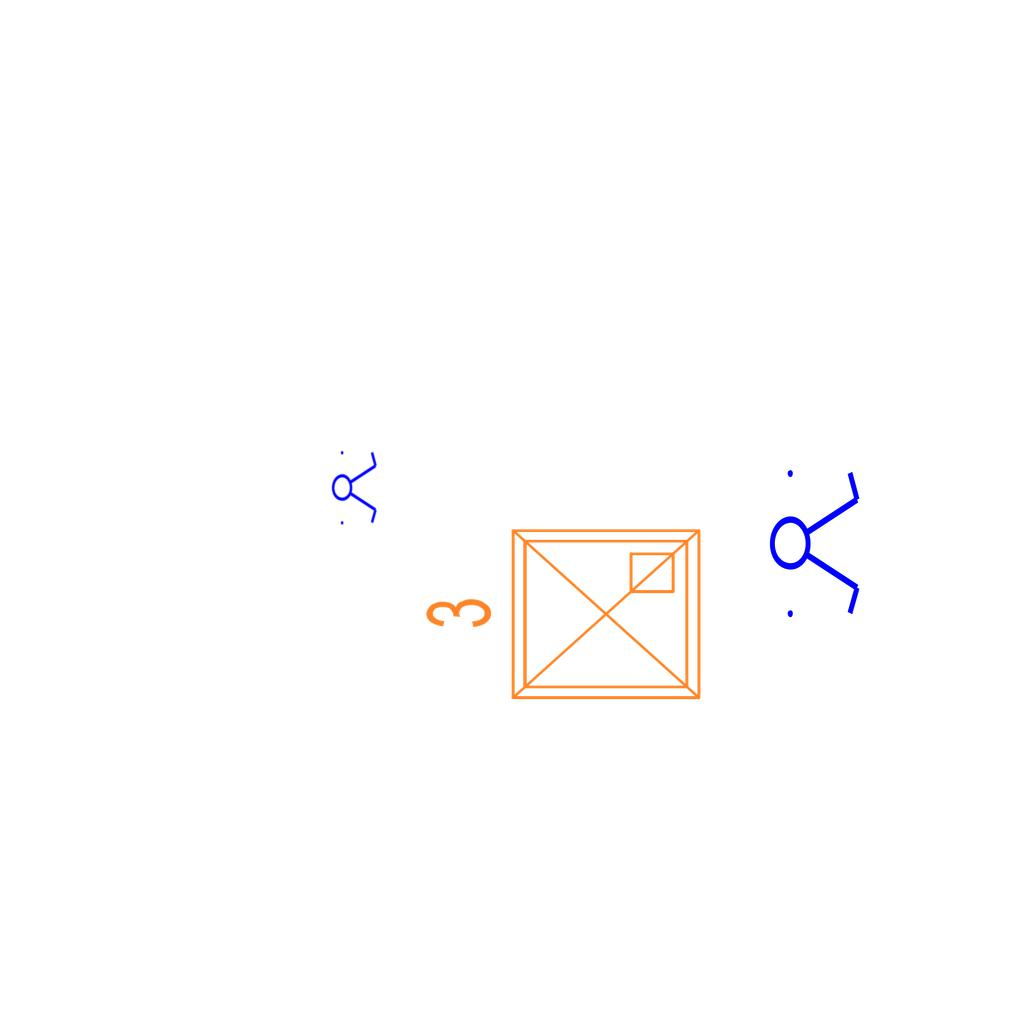Einbaudownlights_LED_Konferenzraeume: (415, 514, 715, 722)
Serienschalter: (768, 458, 864, 626), (331, 445, 379, 529)
